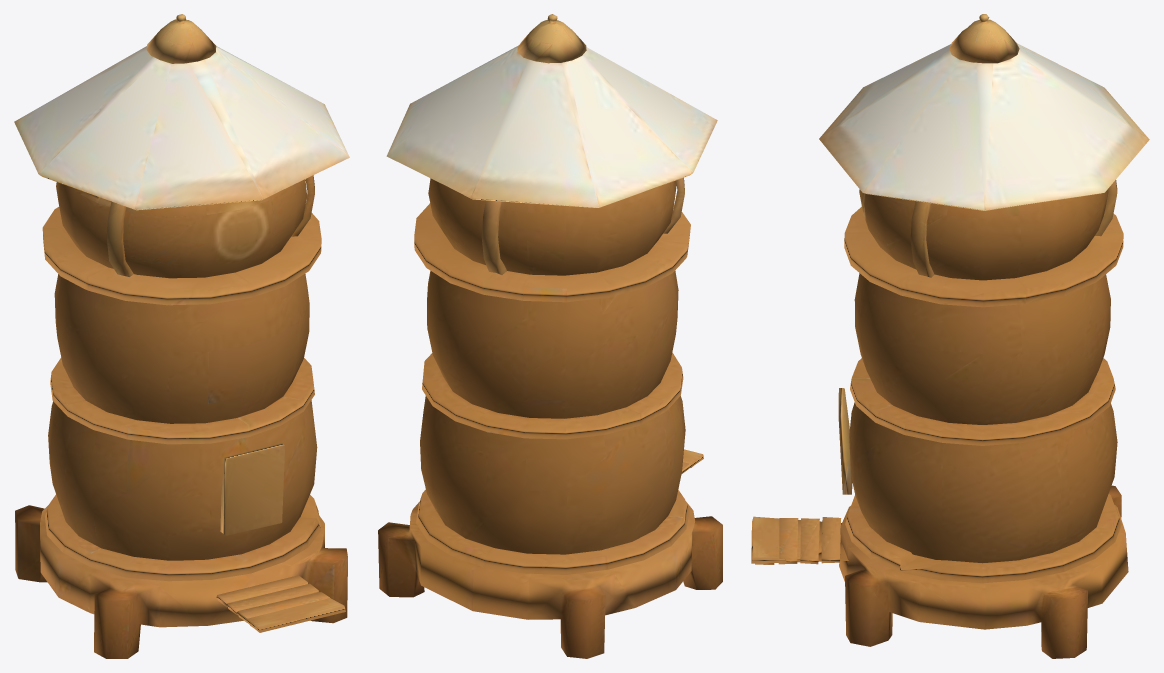
File: beehive.glb
The picture shows the model from 3 angles, left to right: view 1: azimuth 30°, elevation 25°; view 2: azimuth 150°, elevation 25°; view 3: azimuth 270°, elevation 25°; orthographic projection.
Parts seen in each view (by area): view 1: beehive; view 2: beehive; view 3: beehive.
Part boxes in pixels (box(x1,y1,x2,y2)): beehive: box(14, 14, 349, 658); beehive: box(378, 14, 722, 658); beehive: box(751, 14, 1149, 658).
Size of the model in its own units: 0.4665 by 0.9 by 0.5612.
Materials: 1 (1 with a texture image).
